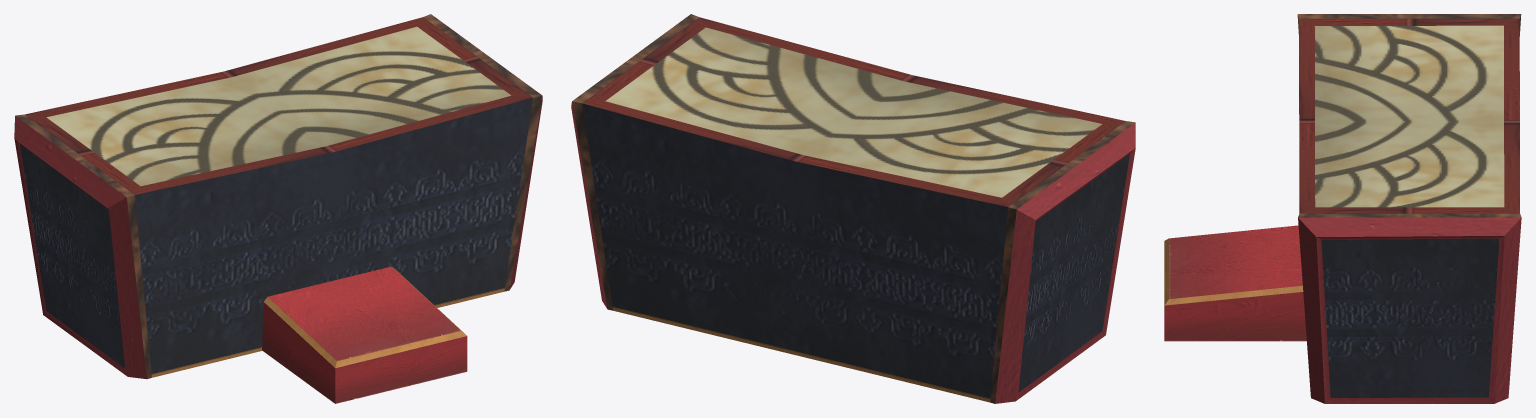
Rendered from lunar-year__MainAltar.glb.
3 renders of one model, left to right at view 1: azimuth 30°, elevation 25°; view 2: azimuth 150°, elevation 25°; view 3: azimuth 270°, elevation 25°, orthographic. The views are drawn at different scales.
Parts seen in each view (by area): view 1: MainAltar; view 2: MainAltar; view 3: MainAltar.
Part boxes in pixels (x1,y1,x2,y2): MainAltar: [14, 14, 542, 403]; MainAltar: [571, 14, 1135, 403]; MainAltar: [1164, 14, 1521, 403].
Bounding box in the file's own units: 2.92 × 1.24 × 2.08.
Materials: 4 (4 with a texture image).
